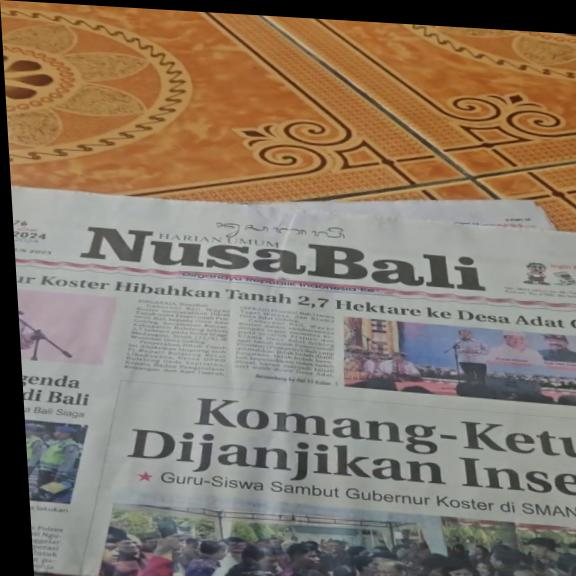Kertas: (15, 188, 576, 576)
